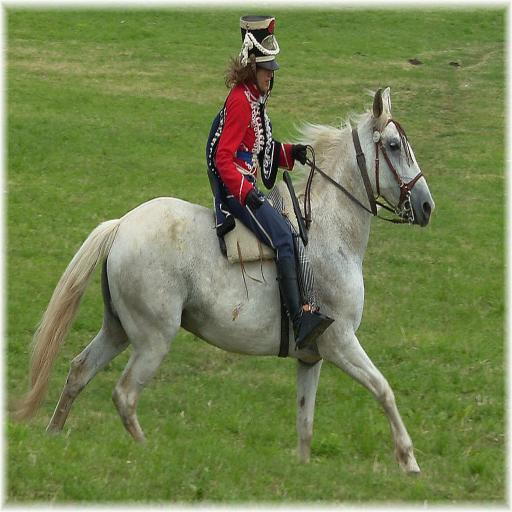horse: (5, 84, 436, 477)
